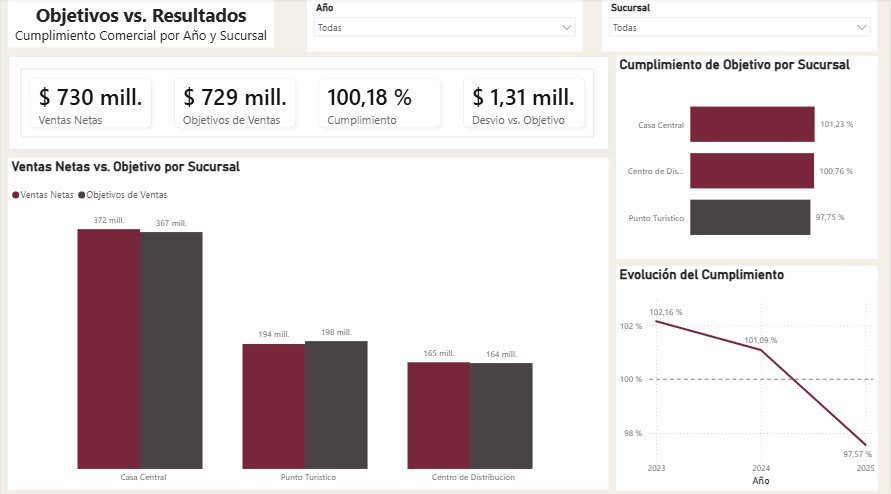

Layout of this report page (visuals, bound fields, positions):
{"tool":"powerbi","page":{"name":"Objetivos vs. Resultados","canvas":[1280,720],"ordinal":4},"visuals":[{"type":"textbox","box":[10.1,0,383,70.6],"z":0},{"type":"slicer","fields":{"Values":["dim_calendario.Año"]},"box":[440.6,0,397,77],"z":1000},{"type":"slicer","fields":{"Values":["dim_sucursales1.nombre_sucursal"]},"box":[865.4,0,397,77],"z":2000},{"type":"cardVisual","fields":{"Data":["Medidas (2).Ventas_Netas","Medidas (2).Objetivos_Ventas","Medidas (2).Cumplimiento_Objetivo %","Medidas (2).Desvio_vs_Objetivo"]},"box":[10.1,83.5,865.4,135.4],"z":3000},{"type":"clusteredColumnChart","title":"Ventas Netas vs. Objetivo por Sucursal","fields":{"Category":["dim_sucursales1.nombre_sucursal"],"Y":["Medidas (2).Ventas_Netas","Medidas (2).Objetivos_Ventas"]},"box":[10.1,230.4,865.4,478.1],"z":4000},{"type":"barChart","title":"Cumplimiento de Objetivo por Sucursal","fields":{"Category":["dim_sucursales1.nombre_sucursal"],"Y":["Medidas (2).Cumplimiento_Objetivo %"]},"box":[885.6,83.5,377.3,292.3],"z":5000},{"type":"lineChart","title":"Evolución del Cumplimiento","fields":{"Category":["dim_calendario.Año"],"Y":["Medidas (2).Cumplimiento_Objetivo %"]},"box":[885.6,385.9,377.3,322.6],"z":6000}]}

Visuals, with their boxes in screenshot pixels (x1, y1, x2, y2), scaled from the page's 1280x720 canvas onto the 891x494 screenshot:
textbox: detection(7, 0, 274, 48)
slicer - dim_calendario.Año: detection(307, 0, 583, 53)
slicer - dim_sucursales1.nombre_sucursal: detection(602, 0, 879, 53)
cardVisual - Medidas (2).Ventas_Netas x Medidas (2).Objetivos_Ventas: detection(7, 57, 609, 150)
"Ventas Netas vs. Objetivo por Sucursal" clusteredColumnChart: detection(7, 158, 609, 486)
"Cumplimiento de Objetivo por Sucursal" barChart: detection(616, 57, 879, 258)
"Evolución del Cumplimiento" lineChart: detection(616, 265, 879, 486)
